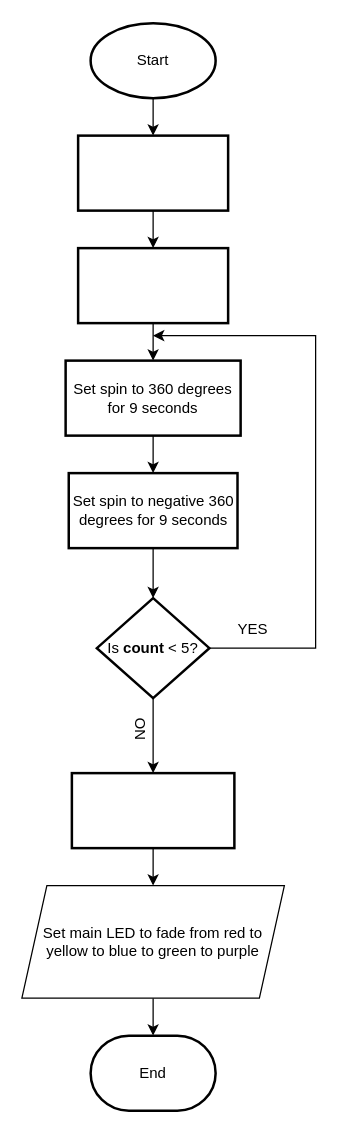
Image size: 348x1133. Some labels were removed from this diagram. Each missing label, with the centre of its shape:
Set count to 0: the point at 152,172
Set speed to 67: the point at 152,285
Speak "I am the winner": the point at 152,810
